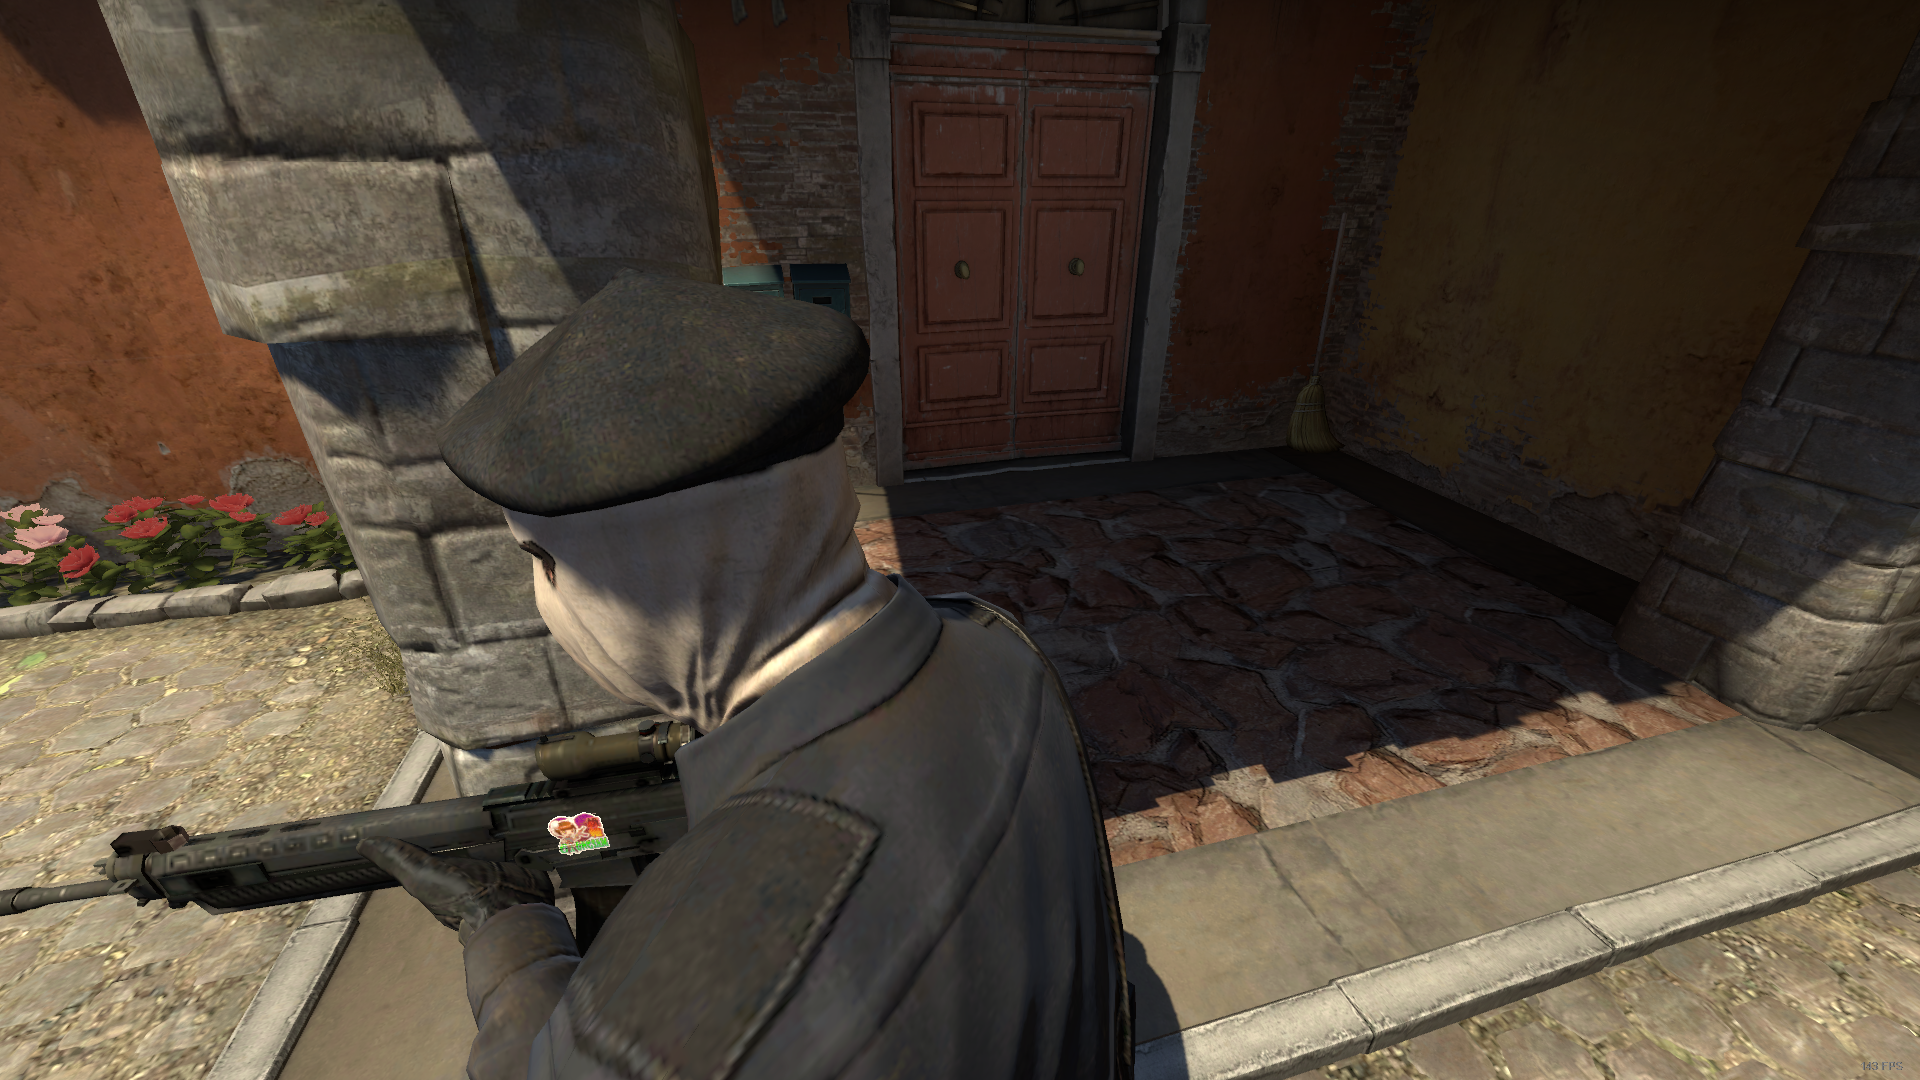t: (302, 247, 1205, 1080)
